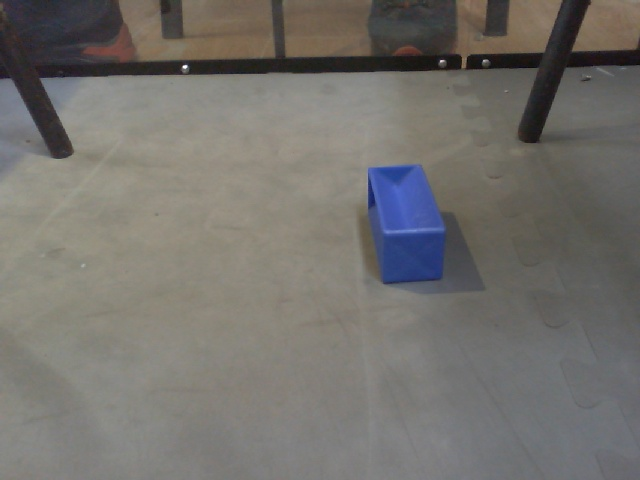BlueSample: (362, 161, 453, 285)
